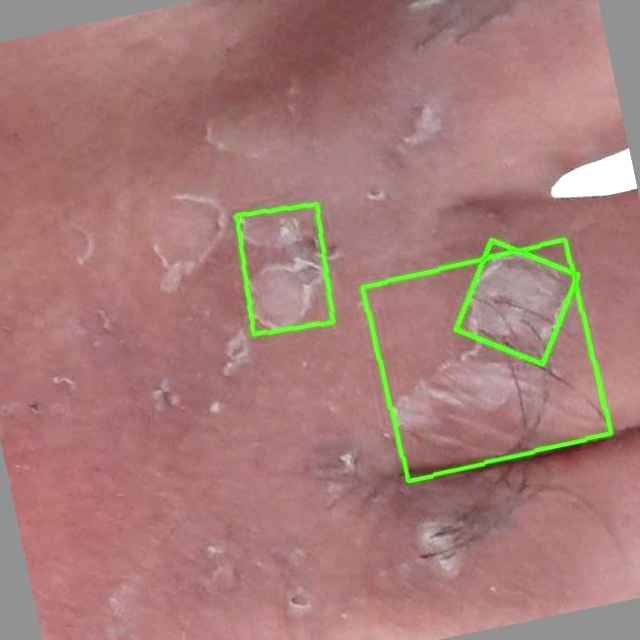Eczema: (361, 239, 610, 481), (455, 239, 577, 363), (235, 203, 333, 333)
